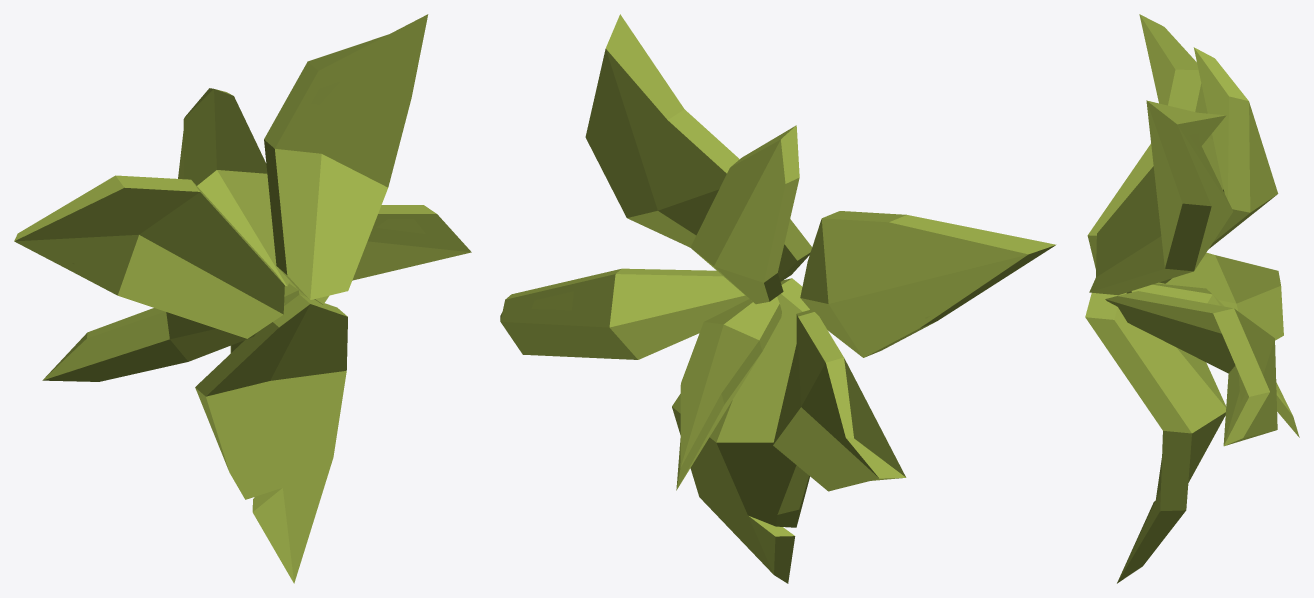
The model's file is roslinka.fbx.
3 views of the same model, side by side, from view 1: azimuth 30°, elevation 25°; view 2: azimuth 150°, elevation 25°; view 3: azimuth 270°, elevation 25° (orthographic). The views are drawn at different scales.
Visible parts, largest first — view 1: Cube; view 2: Cube; view 3: Cube.
Boxes of the visible parts, x1,y1,x2,y2 form: Cube: (14, 14, 471, 583); Cube: (500, 14, 1056, 583); Cube: (1085, 14, 1299, 583).
Bounding box in the file's own units: 148 × 149 × 51.72.
Materials: 1 (1 with a texture image).
